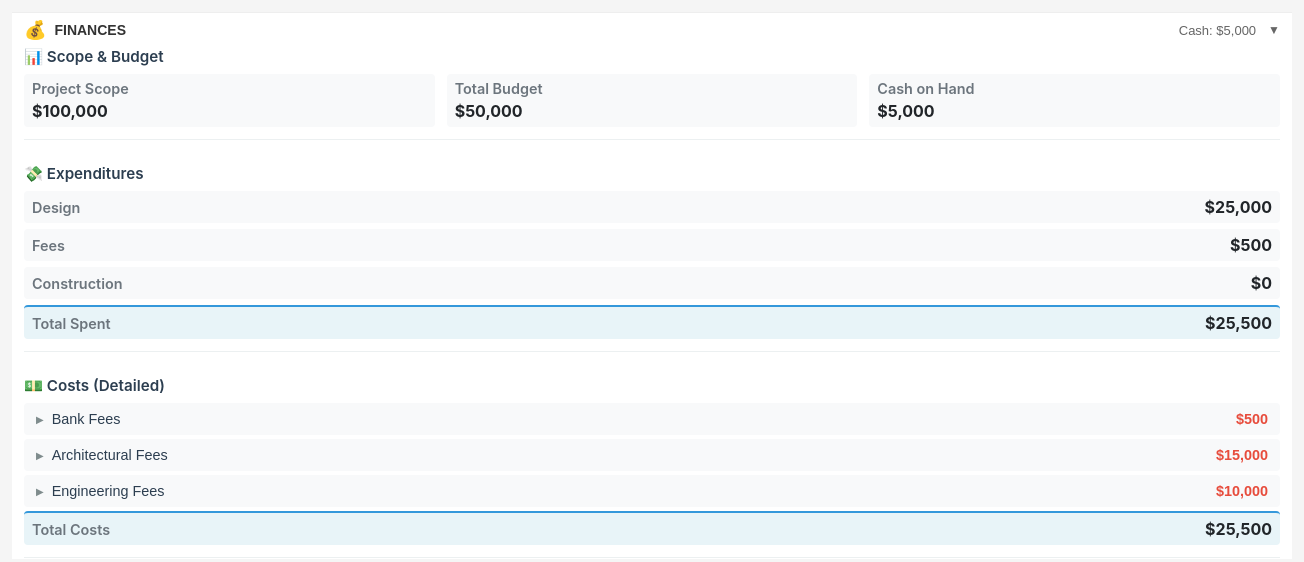
Scenario: FinancesSection › Cost Tracking Display › should display all cost entries for a category when expanded
Step 1. Click the button "▶ Bank Fees $500" → click(86, 419), box [24,403,1280,435]
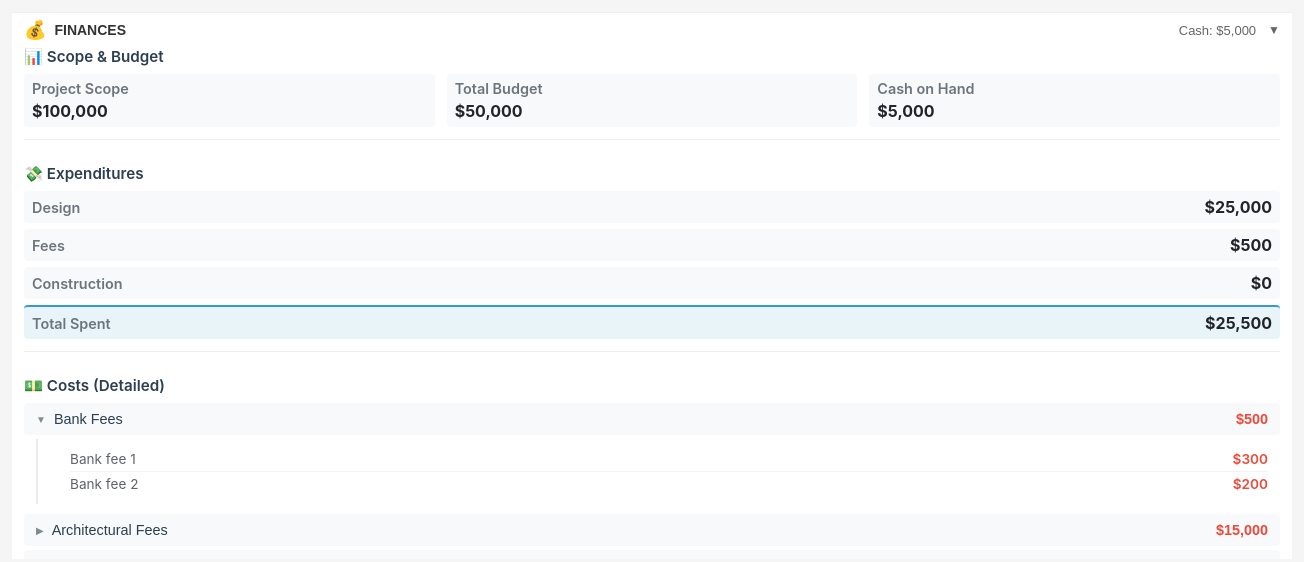
Expected: the text "Cash: $5,000" is shown, [1179,22,1256,38]
Expected: the text "Bank fee 1" is shown, [70,451,136,467]
Expected: the text "Bank fee 2" is shown, [70,476,138,492]
